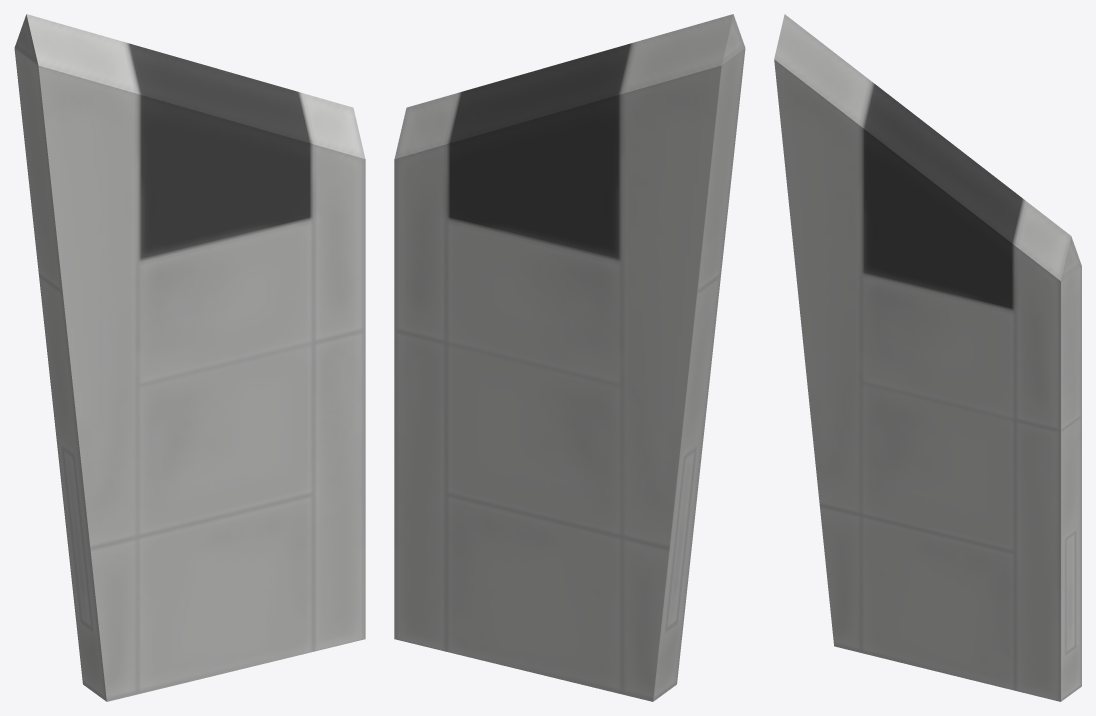
File: Saturn_S1_SmallFin_Collider.dae
3 renders of one model, left to right at view 1: azimuth 30°, elevation 25°; view 2: azimuth 150°, elevation 25°; view 3: azimuth 330°, elevation 25°, orthographic. The views are drawn at different scales.
Visible parts, largest first — view 1: S1_SmallFin5; view 2: S1_SmallFin5; view 3: S1_SmallFin5.
Part boxes in pixels (x1,y1,x2,y2): S1_SmallFin5: (14, 14, 365, 701); S1_SmallFin5: (394, 14, 745, 701); S1_SmallFin5: (774, 14, 1081, 701).
Size of the model in its own units: 1.03 by 2.09 by 0.1302.
